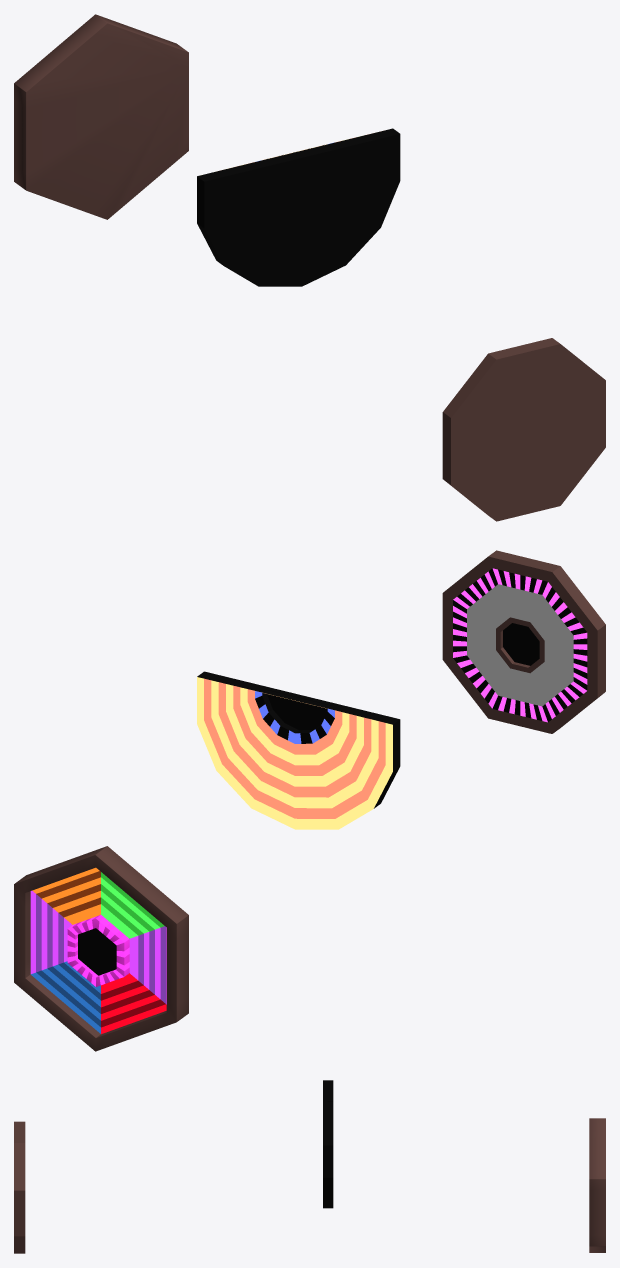
The model's file is bba targets.fbx.
The picture shows the model from 3 angles, top to bottom: view 1: azimuth 30°, elevation 25°; view 2: azimuth 150°, elevation 25°; view 3: azimuth 270°, elevation 25°; orthographic projection. The views are drawn at different scales.
Visible parts, largest first — view 1: Cylinder.022, Cylinder.024, Cylinder.023; view 2: Cylinder.003, Cylinder.024, Cylinder.001, Cylinder.022, Cylinder.004, Cylinder.023, Cylinder.002, Cylinder.005; view 3: Cylinder.022, Cylinder.024, Cylinder.023.
Boxes of the visible parts, x1,y1,x2,y2 form: Cylinder.022: (14, 14, 188, 219); Cylinder.024: (442, 338, 605, 521); Cylinder.023: (197, 128, 400, 286); Cylinder.003: (197, 677, 392, 829); Cylinder.024: (442, 550, 605, 733); Cylinder.001: (30, 867, 166, 1034); Cylinder.022: (14, 846, 188, 1051); Cylinder.004: (467, 584, 573, 706); Cylinder.023: (197, 671, 400, 808); Cylinder.002: (78, 928, 116, 975); Cylinder.005: (503, 623, 539, 665); Cylinder.022: (589, 1118, 605, 1252); Cylinder.024: (14, 1121, 25, 1253); Cylinder.023: (323, 1080, 333, 1208).
Bounding box in the file's own units: 402 × 402 × 1538.
